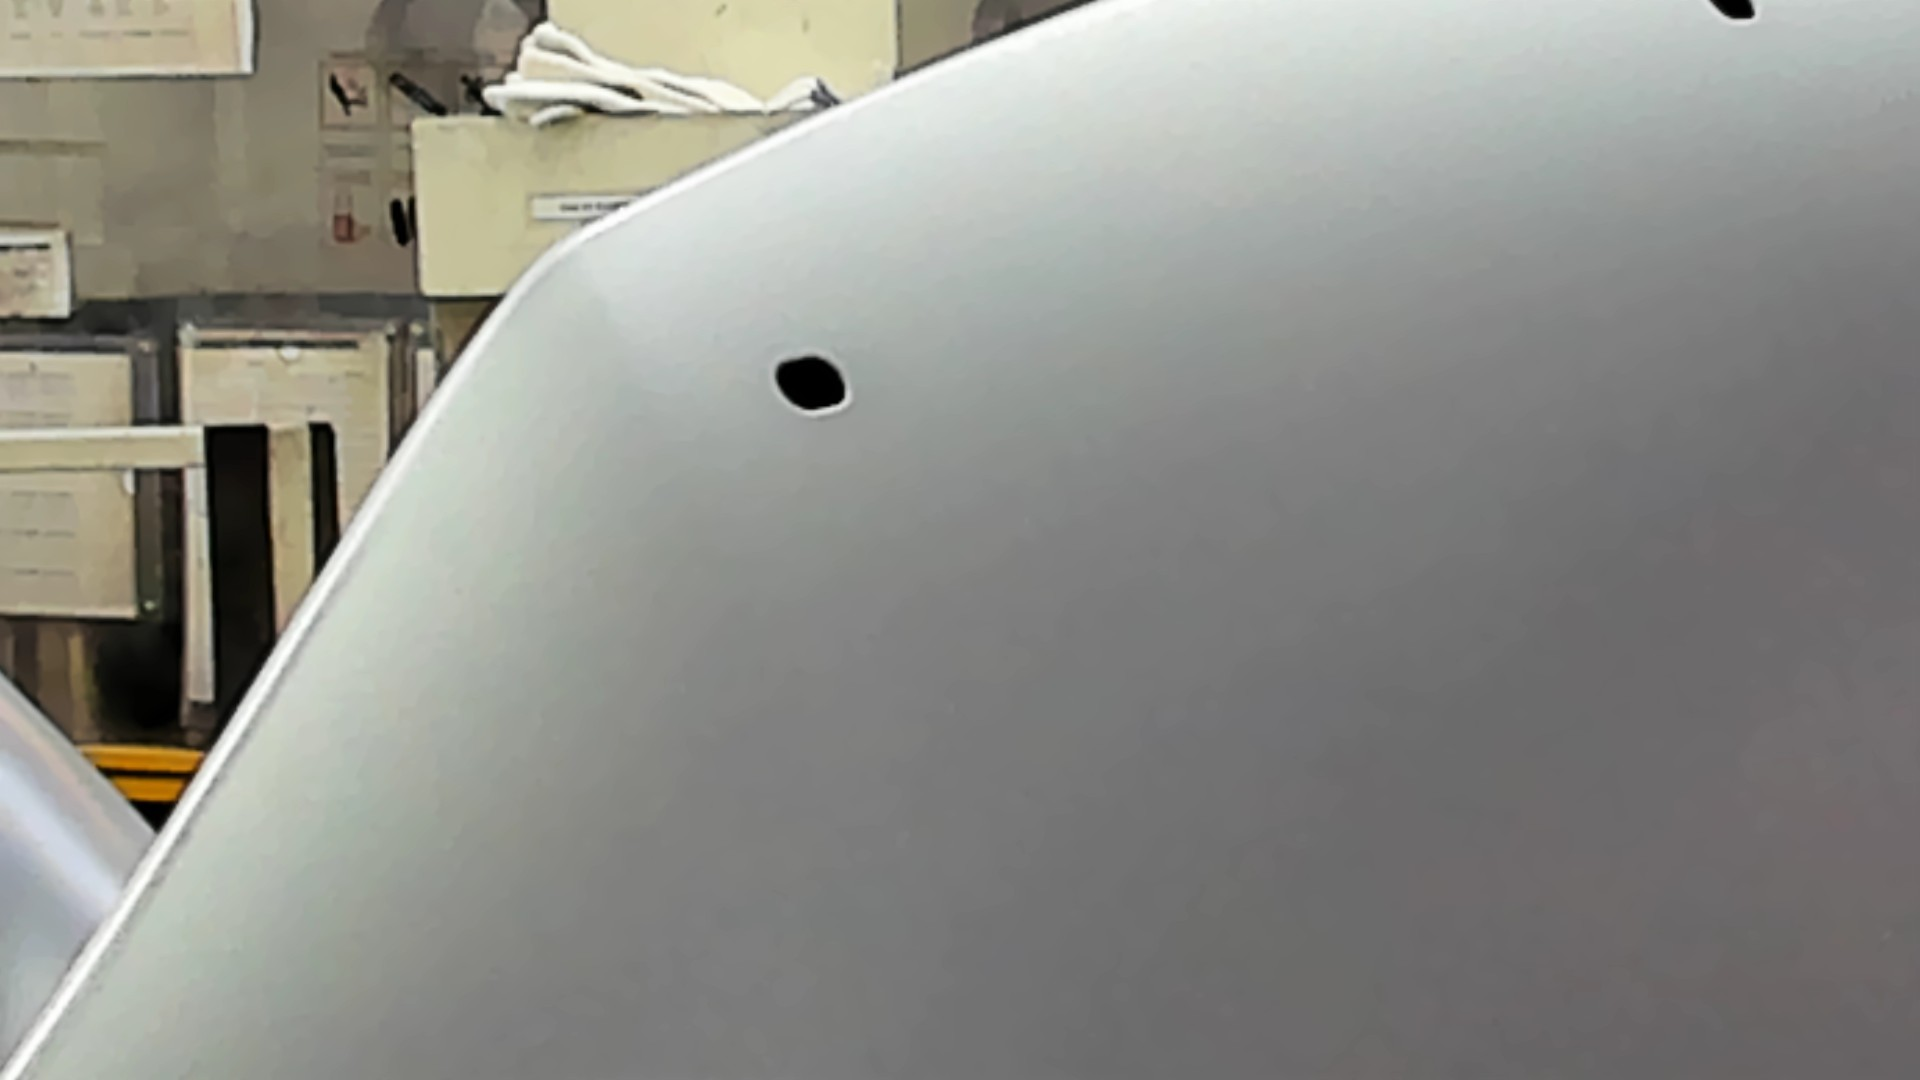amorfo: (771, 349, 856, 415), (1709, 1, 1764, 26)
